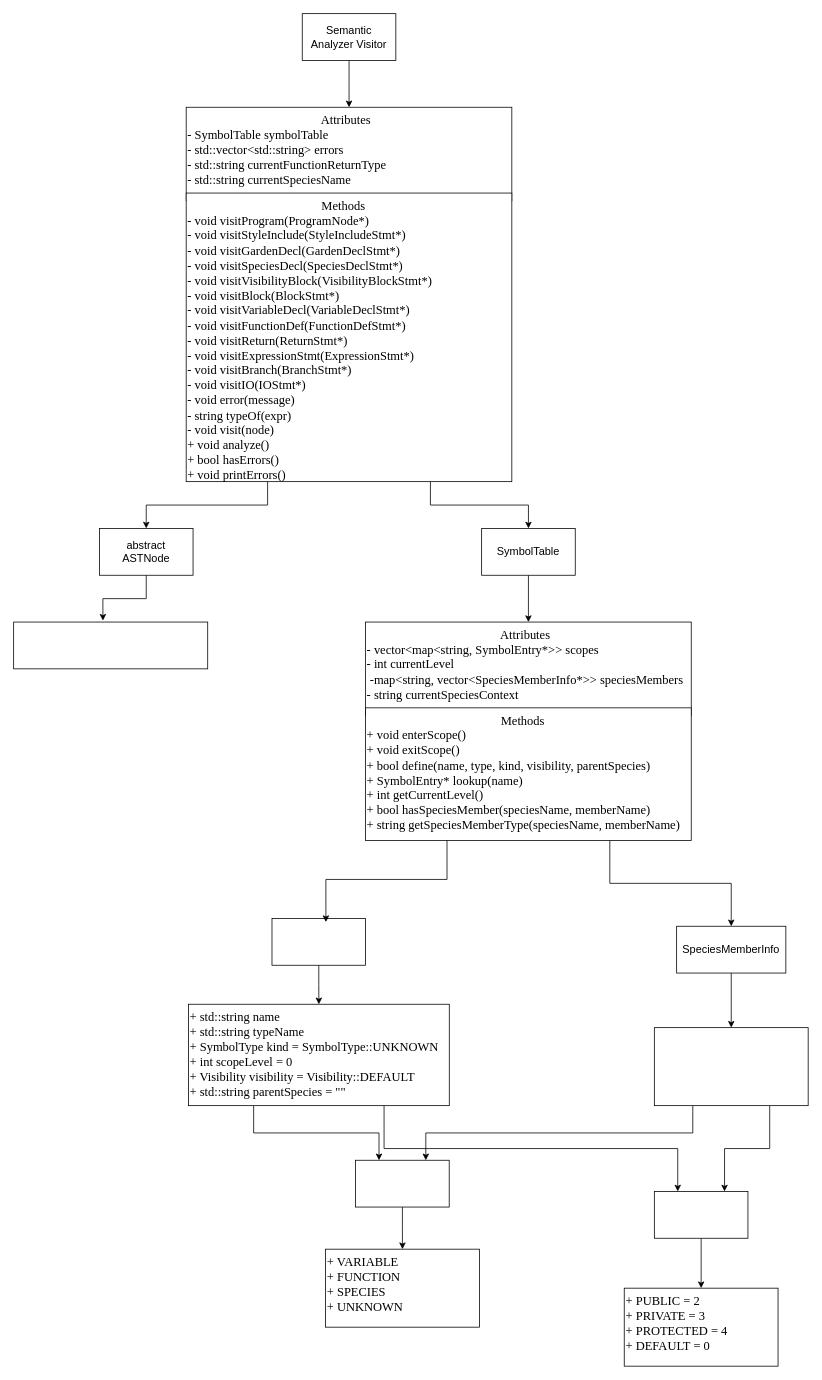
This 822x1380 diagram has some shape labels left out. Each missing label, with the centre of its shape:
"+ std::string name + std::string type + SymbolType kind + Visibility visibility" goes at pixel 731 1066.
"Methods + nlohmann::json toJson()" goes at pixel 110 645.
"SymbolEntry" goes at pixel 318 941.
"SymbolType" goes at pixel 402 1183.
"Visibility" goes at pixel 701 1214.
